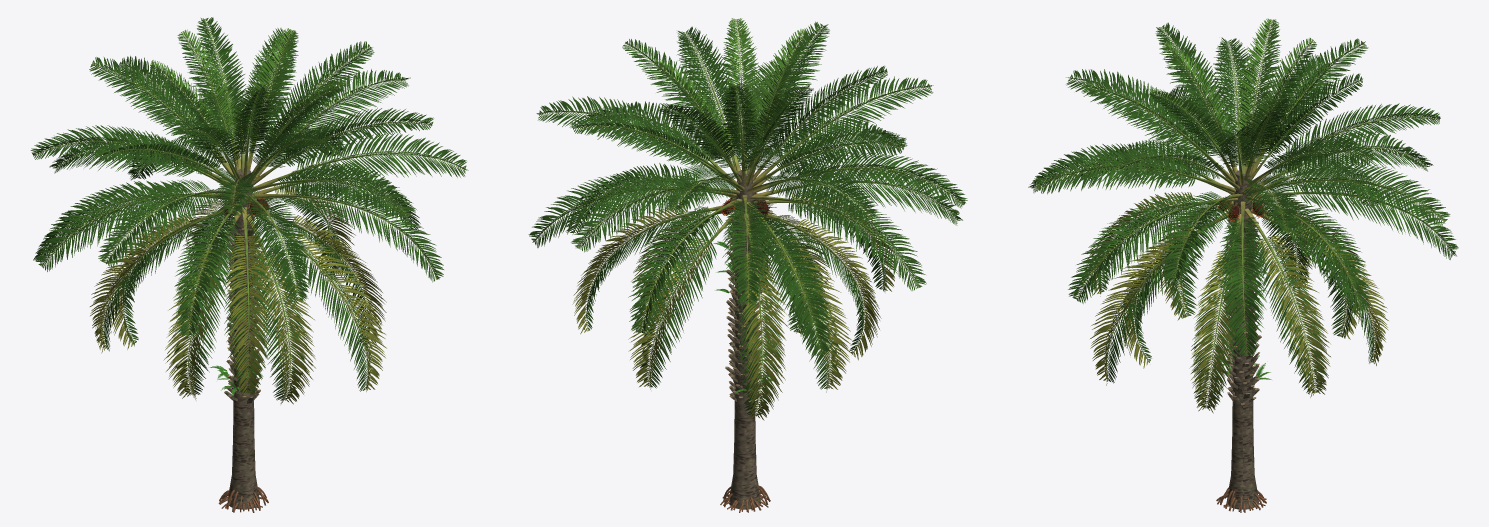
File: oil-palm.glb
3 views of the same model, side by side, from view 1: azimuth 30°, elevation 25°; view 2: azimuth 150°, elevation 25°; view 3: azimuth 270°, elevation 25° (orthographic).
Parts seen in each view (by area): view 1: Pinnate leaflets in two ranks per side (alpha-cut), petiole , Frond petioles and rachises (spiny petioles), Oil palm trunk (frond-base remains, bark), Persistent cut frond bases (boots), Roots, spear leaves, bunch cores, spines and stalks, male in; view 2: Pinnate leaflets in two ranks per side (alpha-cut), petiole , Frond petioles and rachises (spiny petioles), Oil palm trunk (frond-base remains, bark), Persistent cut frond bases (boots), Roots, spear leaves, bunch cores, spines and stalks, male in; view 3: Pinnate leaflets in two ranks per side (alpha-cut), petiole , Frond petioles and rachises (spiny petioles), Oil palm trunk (frond-base remains, bark), Persistent cut frond bases (boots), Roots, spear leaves, bunch cores, spines and stalks, male in.
Part boxes in pixels (left/top/right/bottom): Pinnate leaflets in two ranks per side (alpha-cut), petiole : left=30, top=17, right=468, bottom=404; Frond petioles and rachises (spiny petioles): left=33, top=19, right=464, bottom=399; Oil palm trunk (frond-base remains, bark): left=227, top=169, right=259, bottom=509; Persistent cut frond bases (boots): left=224, top=216, right=262, bottom=403; Roots, spear leaves, bunch cores, spines and stalks, male in: left=218, top=119, right=268, bottom=512; Pinnate leaflets in two ranks per side (alpha-cut), petiole : left=528, top=18, right=967, bottom=420; Frond petioles and rachises (spiny petioles): left=535, top=19, right=963, bottom=415; Oil palm trunk (frond-base remains, bark): left=729, top=170, right=760, bottom=509; Persistent cut frond bases (boots): left=725, top=220, right=763, bottom=405; Roots, spear leaves, bunch cores, spines and stalks, male in: left=720, top=125, right=770, bottom=512; Pinnate leaflets in two ranks per side (alpha-cut), petiole : left=1028, top=18, right=1458, bottom=413; Frond petioles and rachises (spiny petioles): left=1034, top=20, right=1452, bottom=407; Oil palm trunk (frond-base remains, bark): left=1227, top=170, right=1258, bottom=509; Persistent cut frond bases (boots): left=1223, top=218, right=1261, bottom=406; Roots, spear leaves, bunch cores, spines and stalks, male in: left=1216, top=119, right=1266, bottom=512.
Bounding box in the file's own units: 10.76 × 11.45 × 10.59.
4 materials, 4 textured.
